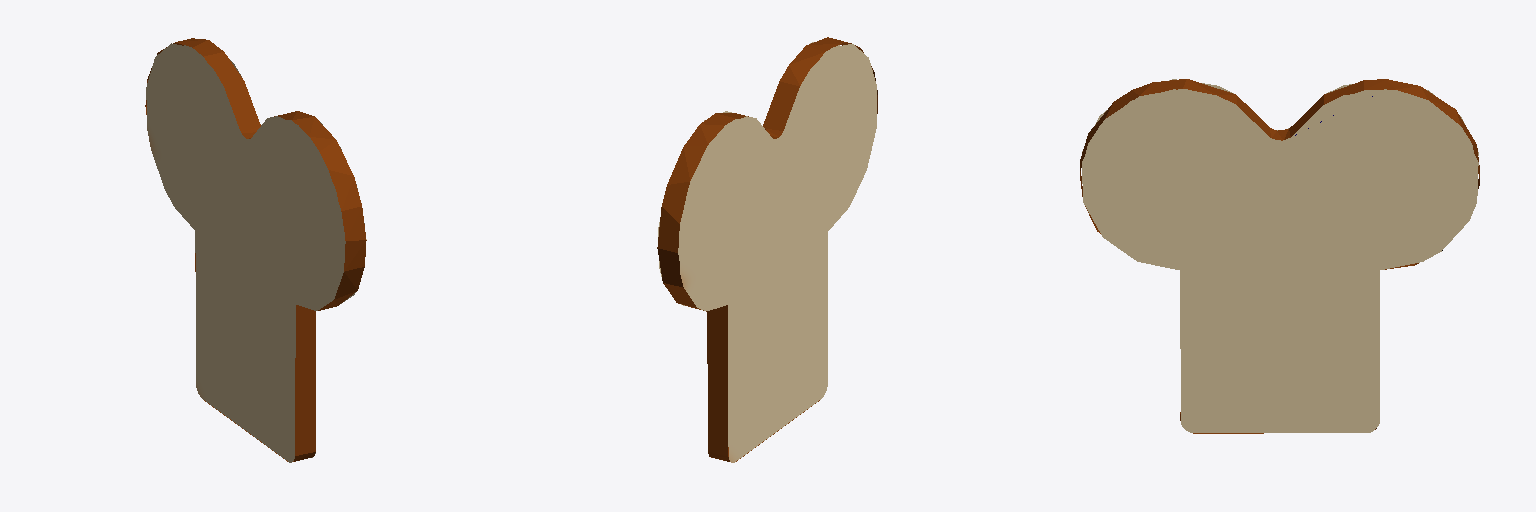
The picture shows the model from 3 angles: view 1: azimuth 30°, elevation 25°; view 2: azimuth 150°, elevation 25°; view 3: azimuth 270°, elevation 25°; orthographic projection.
Visible parts, largest first — view 1: bread; view 2: bread; view 3: bread.
Part boxes in pixels (x1,y1,x2,y2): bread: (145,38,366,462); bread: (657,37,877,462); bread: (1080,79,1479,433).
Bounding box in the file's own units: 0.3441 × 5.45 × 5.74.
1 materials, 1 textured.